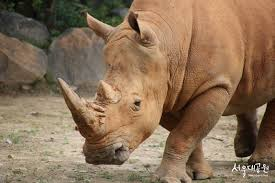Rhinoceros: (54, 3, 273, 177)
